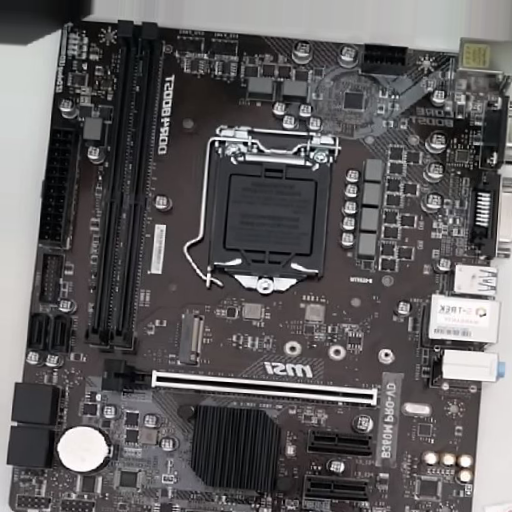CPU: (211, 125, 337, 295)
GPU: (101, 359, 379, 408)
MOTHERBOARD: (11, 24, 511, 512)
RAM: (82, 20, 159, 353)
